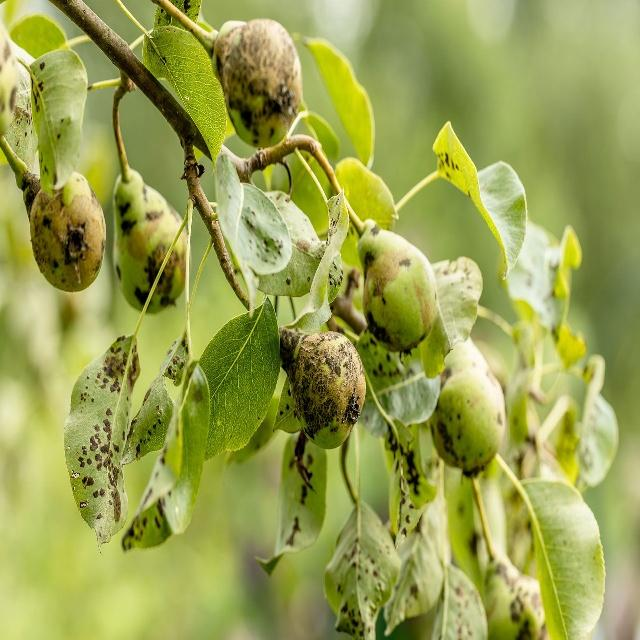leaf_spot: (59, 322, 150, 560), (309, 451, 400, 640), (7, 42, 92, 215)
